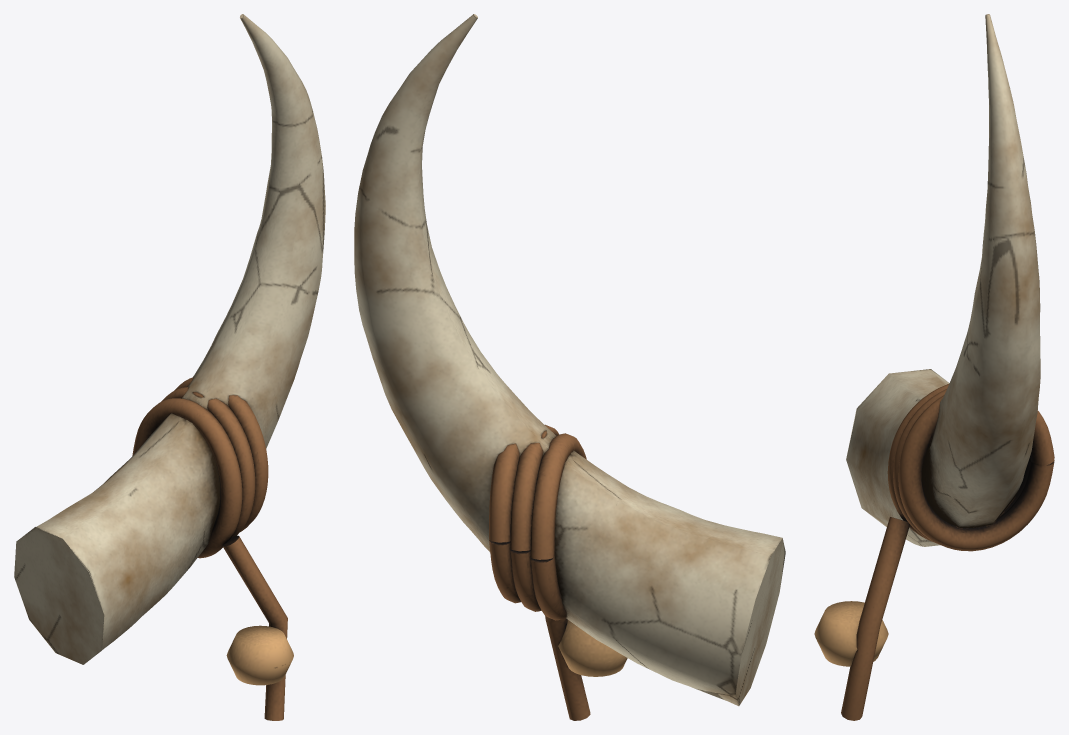
The model's file is item_presa_v2.glb.
3 views of the same model, side by side, from view 1: azimuth 30°, elevation 25°; view 2: azimuth 150°, elevation 25°; view 3: azimuth 270°, elevation 25° (orthographic). The views are drawn at different scales.
Visible parts, largest first — view 1: item_presa; view 2: item_presa; view 3: item_presa.
Part boxes in pixels (box(x1,y1,x2,y2)): item_presa: box(14, 14, 325, 720); item_presa: box(354, 14, 785, 720); item_presa: box(814, 14, 1054, 720).
Bounding box in the file's own units: 0.0946 × 0.18 × 0.0545.
Materials: 1 (1 with a texture image).
